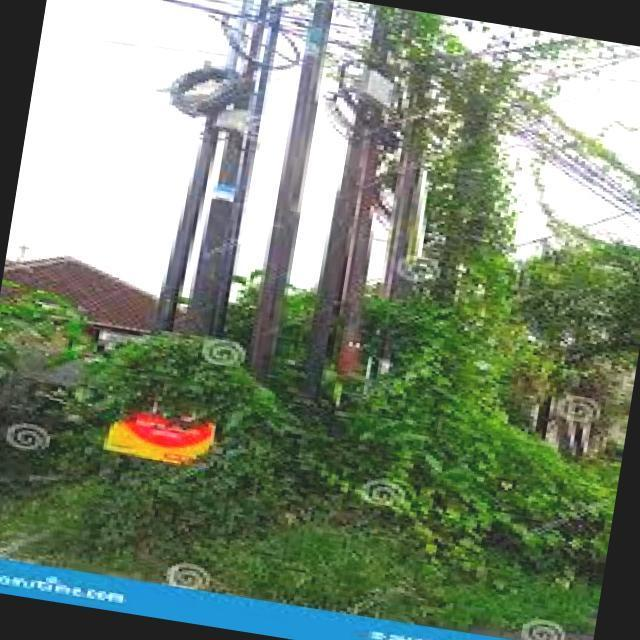critical vegetation: (261, 0, 640, 302)
